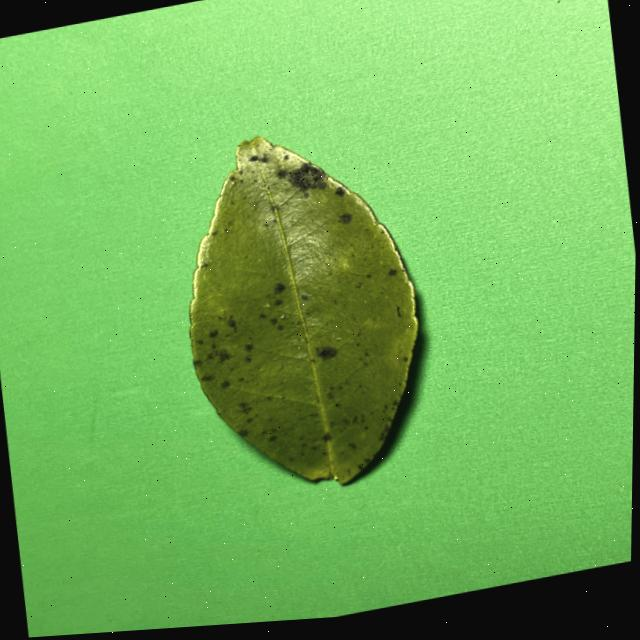sooty_mold: (189, 136, 416, 482)
